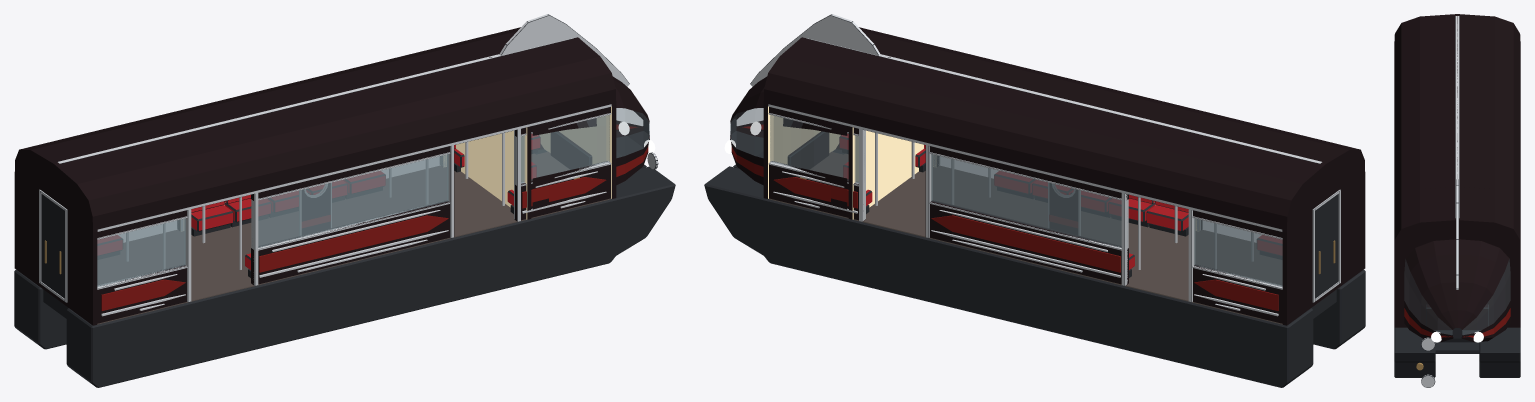
File: monorail_cars.993cc0c9.glb
3 views of the same model, side by side, from view 1: azimuth 30°, elevation 25°; view 2: azimuth 150°, elevation 25°; view 3: azimuth 270°, elevation 25° (orthographic). The views are drawn at different scales.
Visible parts, largest first — view 1: car_mid, car_end, door; view 2: car_mid, car_end, door; view 3: car_end, car_mid.
Part boxes in pixels (x1,y1,x2,y2): car_mid: (14,27,616,387); car_end: (14,14,675,383); door: (299,183,331,235); car_mid: (763,27,1365,387); car_end: (704,14,1365,383); door: (1048,183,1080,235); car_end: (1394,14,1520,387); car_mid: (1394,22,1520,328).
Size of what is drawn, in the model's own units: 14 by 5.1 by 3.2.
